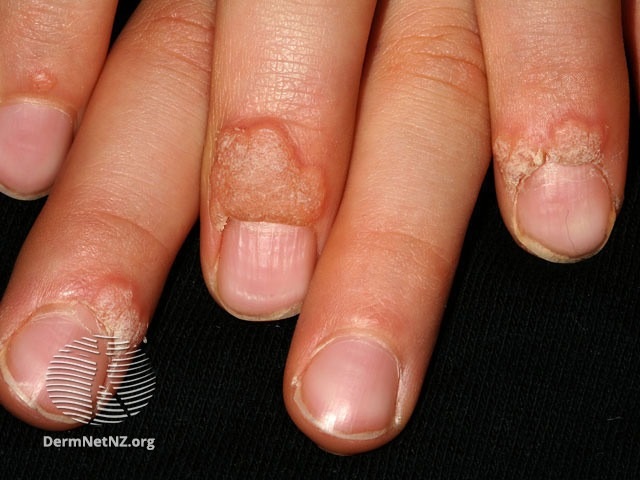Warts: (191, 101, 339, 240), (485, 104, 632, 189), (17, 63, 67, 104)
